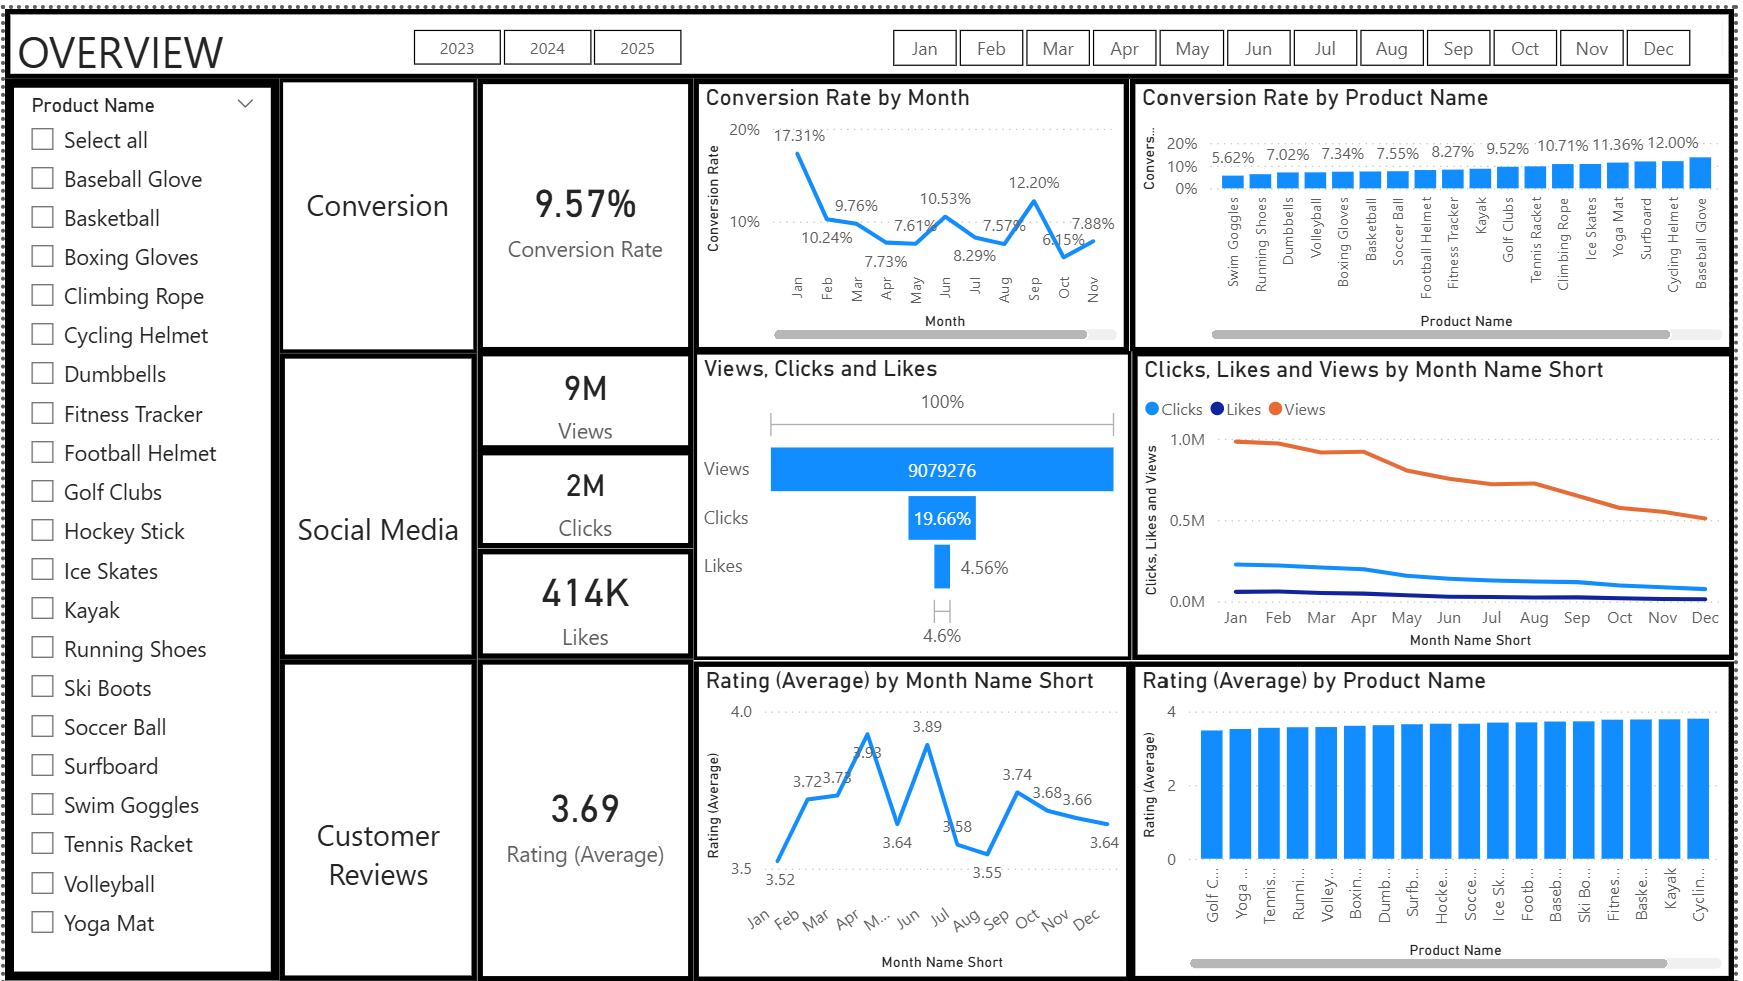

What the dashboard file says about the page in this screenshot:
{"tool":"powerbi","page":{"name":"Overview","canvas":[1280,720],"ordinal":0},"visuals":[{"type":"textbox","box":[0,0,1280,52],"z":0},{"type":"slicer","fields":{"Values":["dim_products.ProductName"]},"box":[0,51.8,203.6,668.2],"z":1000},{"type":"textbox","box":[204,52,146,203],"z":2000},{"type":"textbox","box":[203.6,254.5,146.4,227.3],"z":3000},{"type":"textbox","box":[203.6,481.8,146.4,238.2],"z":4000},{"type":"card","fields":{"Values":["_Calculations.Conversion Rate"]},"box":[350,51.8,160,202.7],"z":5000},{"type":"card","fields":{"Values":["_Calculations.Views"]},"box":[350,253.8,160,73.8],"z":6000},{"type":"card","fields":{"Values":["_Calculations.Likes"]},"box":[350,400,160,81.4],"z":7000},{"type":"card","fields":{"Values":["_Calculations.Clicks"]},"box":[350,327.1,160,72.9],"z":8000},{"type":"card","fields":{"Values":["_Calculations.Rating (Average)"]},"box":[350,481.4,160,238.6],"z":9000},{"type":"lineChart","fields":{"Y":["_Calculations.Conversion Rate"],"Category":["Calendar.MonthNameShort"]},"box":[510,51.8,322.7,202.7],"z":10000},{"type":"slicer","fields":{"Values":["Calendar.Year"]},"box":[276.7,8.3,248.3,36.7],"z":11000},{"type":"slicer","fields":{"Values":["Calendar.MonthNameShort"]},"box":[631,8,640,36],"z":12000},{"type":"clusteredColumnChart","fields":{"Category":["dim_products.ProductName"],"Y":["_Calculations.Conversion Rate"]},"box":[832.7,51.8,447.3,202.7],"z":13000},{"type":"lineChart","fields":{"Category":["Calendar.MonthNameShort"],"Y":["_Calculations.Clicks","_Calculations.Likes","_Calculations.Views"]},"box":[834.5,253.6,445.5,229.1],"z":14000},{"type":"funnel","fields":{"Y":["_Calculations.Views","_Calculations.Clicks","_Calculations.Likes"]},"box":[510,253.6,324.5,229.1],"z":15000},{"type":"lineChart","fields":{"Y":["_Calculations.Rating (Average)"],"Category":["Calendar.MonthNameShort"]},"box":[510,482.7,324.5,237.3],"z":16000},{"type":"clusteredColumnChart","fields":{"Category":["dim_products.ProductName"],"Y":["_Calculations.Rating (Average)"]},"box":[833.3,483.3,446.7,236.7],"z":17000}]}

Visuals, with their boxes in screenshot pixels (x1, y1, x2, y2), scaled from the page's 1280x720 canvas onto the 1743x981 screenshot:
textbox: 0, 0, 1742, 71
slicer - dim_products.ProductName: 0, 71, 277, 980
textbox: 278, 71, 477, 347
textbox: 277, 347, 477, 656
textbox: 277, 656, 477, 980
card - _Calculations.Conversion Rate: 477, 71, 694, 347
card - _Calculations.Views: 477, 346, 694, 446
card - _Calculations.Likes: 477, 545, 694, 656
card - _Calculations.Clicks: 477, 446, 694, 545
card - _Calculations.Rating (Average): 477, 656, 694, 980
lineChart - _Calculations.Conversion Rate x Calendar.MonthNameShort: 694, 71, 1134, 347
slicer - Calendar.Year: 377, 11, 715, 61
slicer - Calendar.MonthNameShort: 859, 11, 1731, 60
clusteredColumnChart - dim_products.ProductName x _Calculations.Conversion Rate: 1134, 71, 1742, 347
lineChart - Calendar.MonthNameShort x _Calculations.Clicks: 1136, 346, 1742, 658
funnel - _Calculations.Views x _Calculations.Clicks: 694, 346, 1136, 658
lineChart - _Calculations.Rating (Average) x Calendar.MonthNameShort: 694, 658, 1136, 980
clusteredColumnChart - dim_products.ProductName x _Calculations.Rating (Average): 1135, 658, 1742, 980
